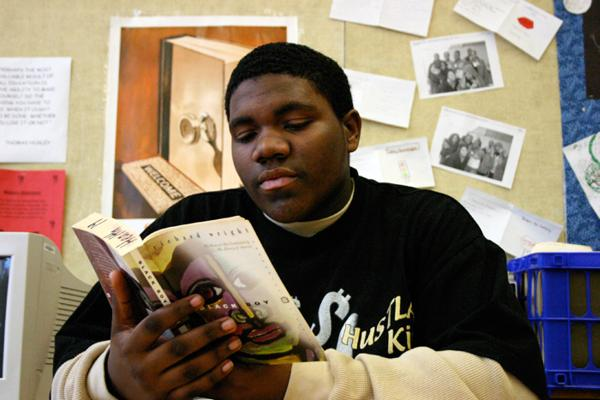person: (47, 43, 552, 400)
